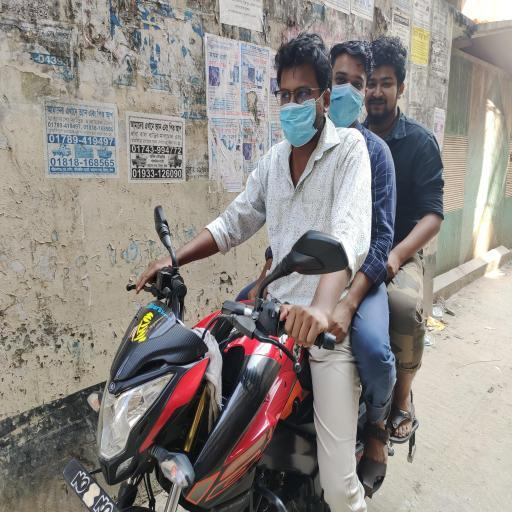no helmet: (277, 47, 323, 192)
triple riding: (49, 23, 431, 512)
